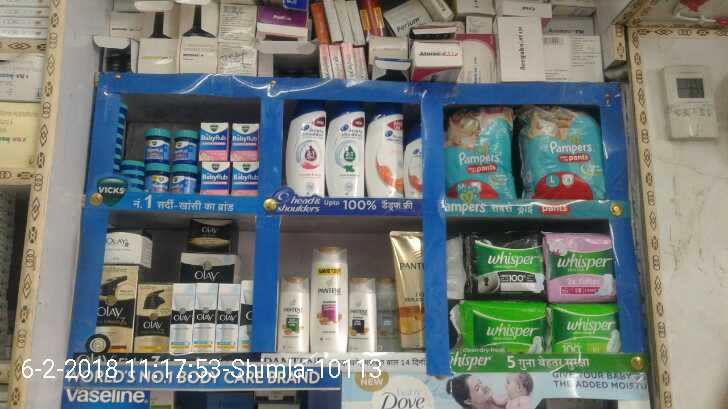beauty: (308, 242, 350, 351), (326, 104, 366, 199), (286, 103, 324, 201), (364, 109, 404, 202), (95, 264, 137, 351), (345, 277, 379, 352), (278, 276, 308, 359), (137, 283, 170, 354), (215, 284, 238, 353), (171, 284, 193, 354), (195, 283, 216, 353)
pharmacy: (516, 108, 606, 201), (445, 109, 512, 201), (540, 232, 617, 302), (458, 299, 549, 352), (472, 239, 544, 295), (550, 309, 623, 353), (199, 120, 229, 166), (228, 123, 259, 161), (196, 162, 231, 194), (141, 125, 171, 161), (119, 155, 145, 192), (168, 162, 198, 194), (231, 159, 257, 191), (171, 127, 195, 159), (142, 162, 168, 191)
